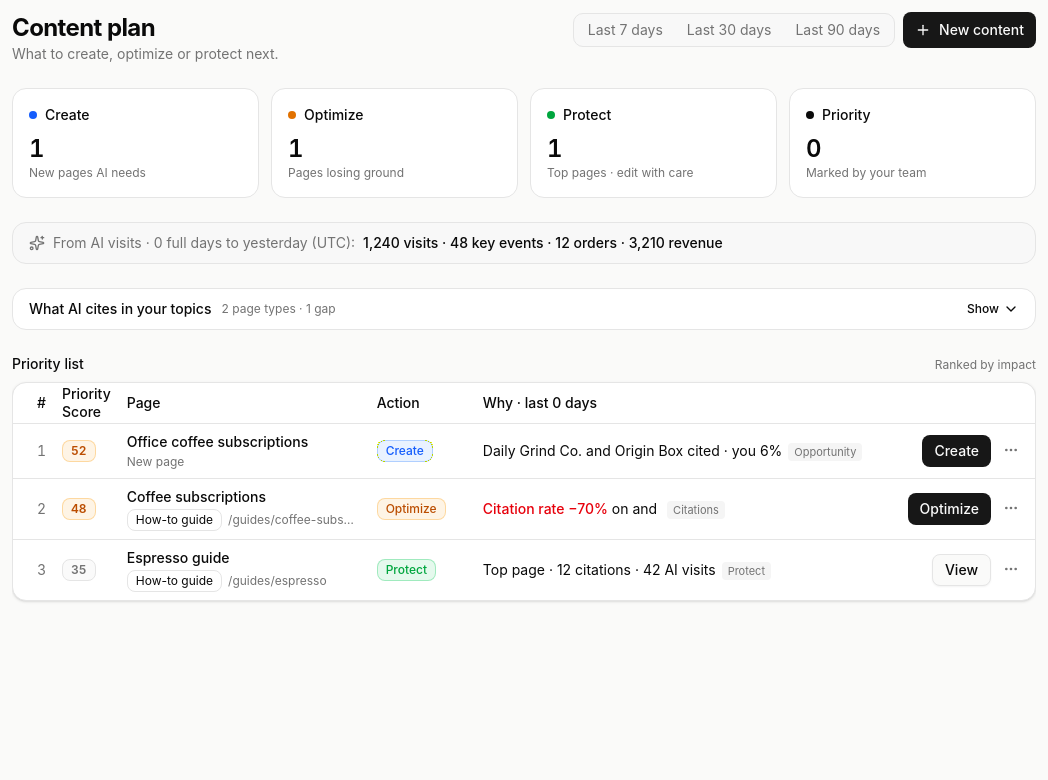
Scenario: the Content plan › names the type filtering the list while the section is closed, and clears it
The width and height of the screenshot is (1048, 780).
What coordinates should you click on to do the following:
click the button "What AI cites in your topics 2 page types · 1 gap Show"
I would click on:
 (120, 308)
Its box is [13,289,1035,329].
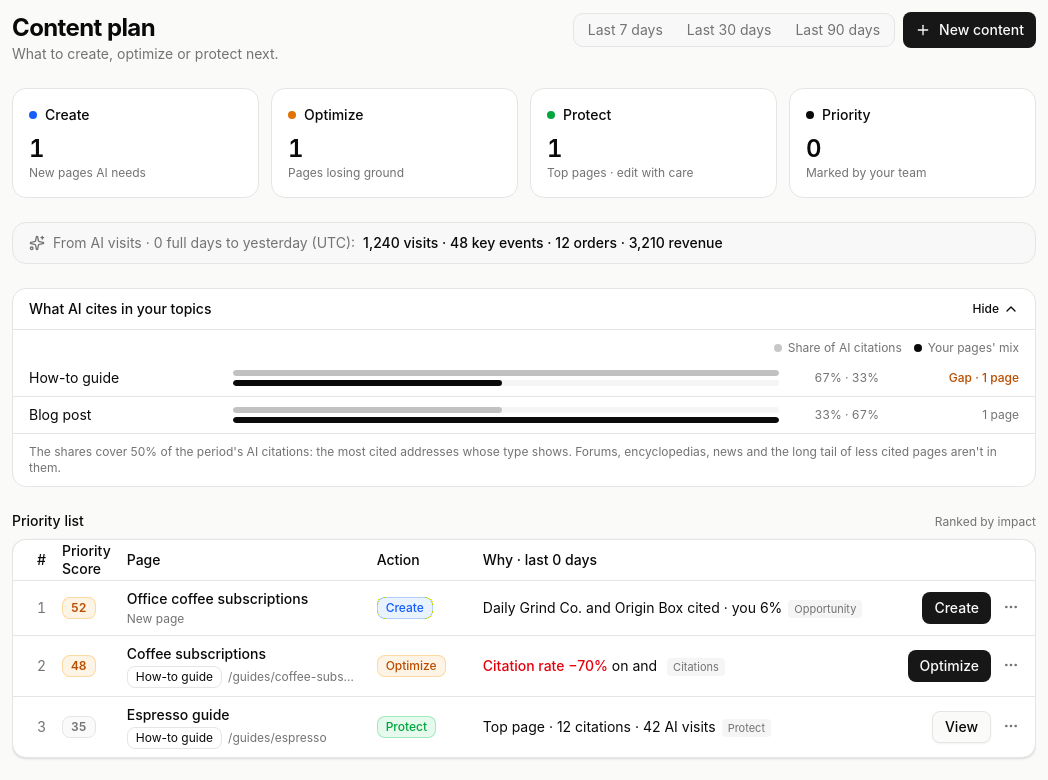
What coordinates should you click on to do the following:
click the button "How-to guide 67% · 33% Gap · 1 page"
I would click on:
 (524, 378)
Its box is [13,360,1035,396].
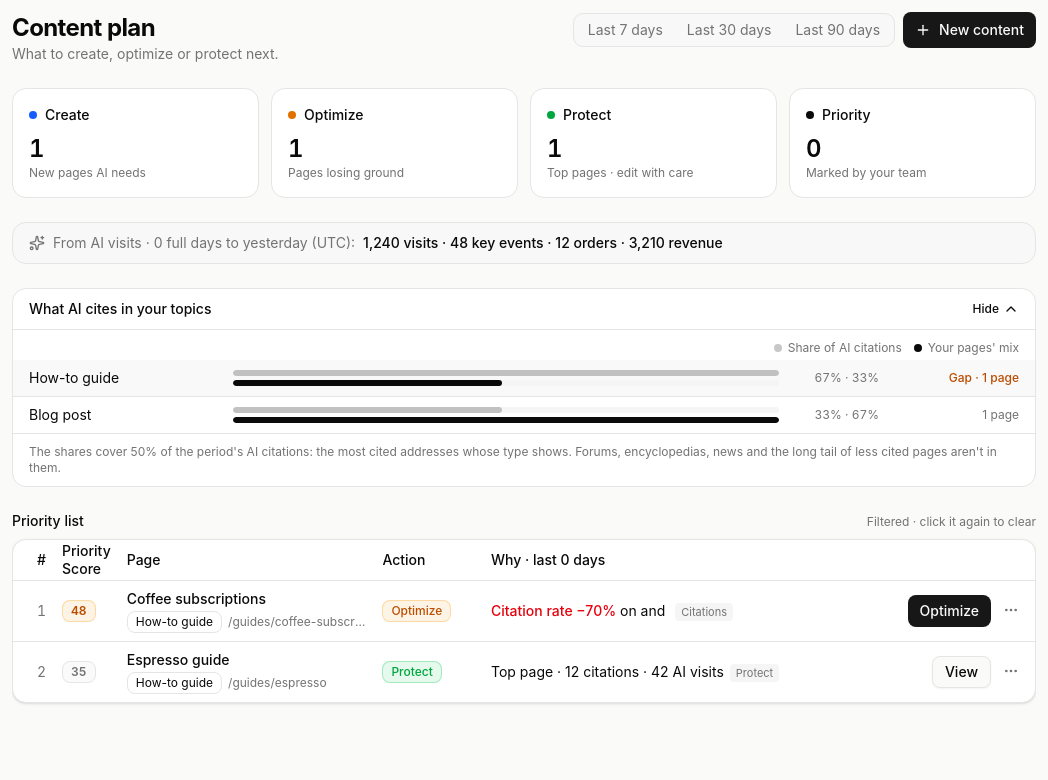
Expected: the text "Priority list filtered to" is not shown
What coordinates should you click on to do the following:
click the button "What AI cites in your topics Hide"
I would click on:
 (120, 308)
Its box is [13,289,1035,329].
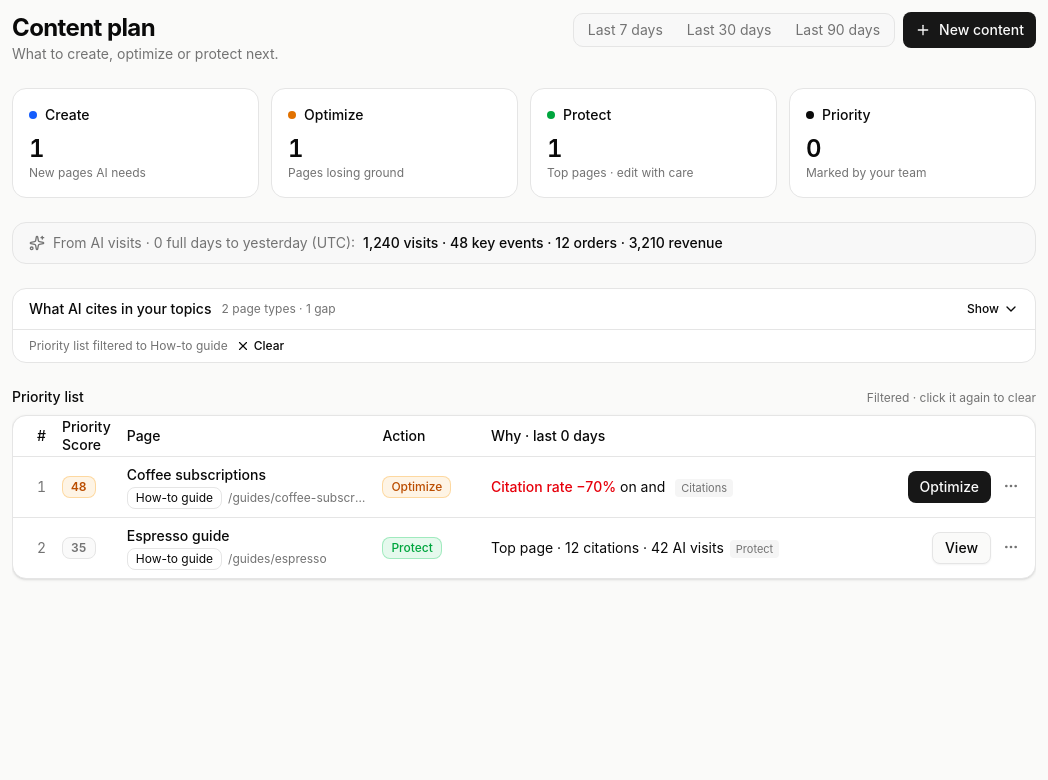
Now the button "What AI cites in your topics 2 page types · 1 gap Show" is collapsed, box [13,289,1035,329]
Now the element that starts with "What AI cites in your topics" shows "Priority list filtered to How-to guide", box [29,338,228,353]
What coordinates should you click on to do the following:
click the button "Clear"
I would click on:
 (260, 346)
Its box is [236,338,284,354].
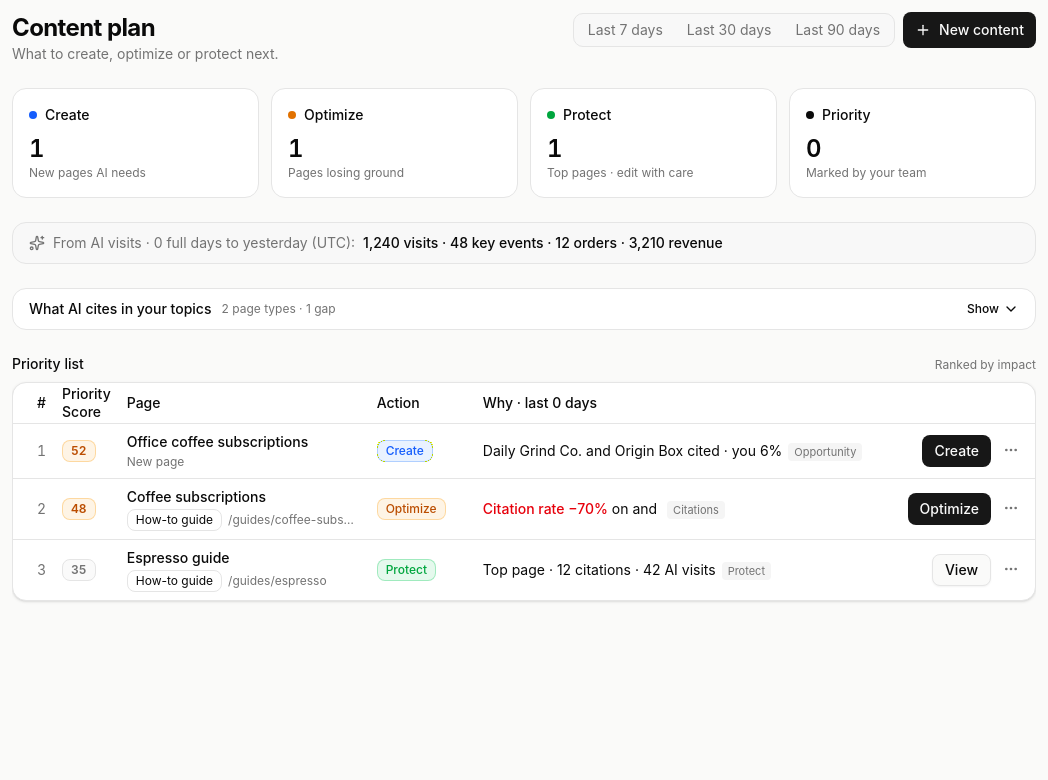
Now the text "Priority list filtered to" is gone
